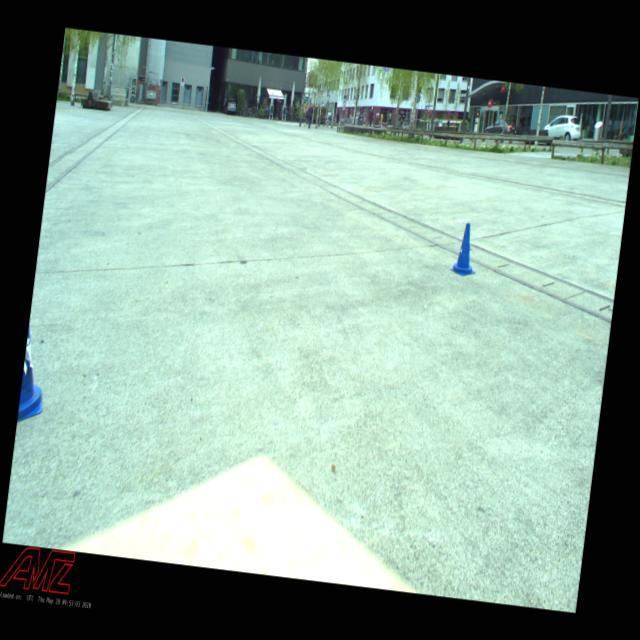blue_cone: (449, 220, 481, 276)
